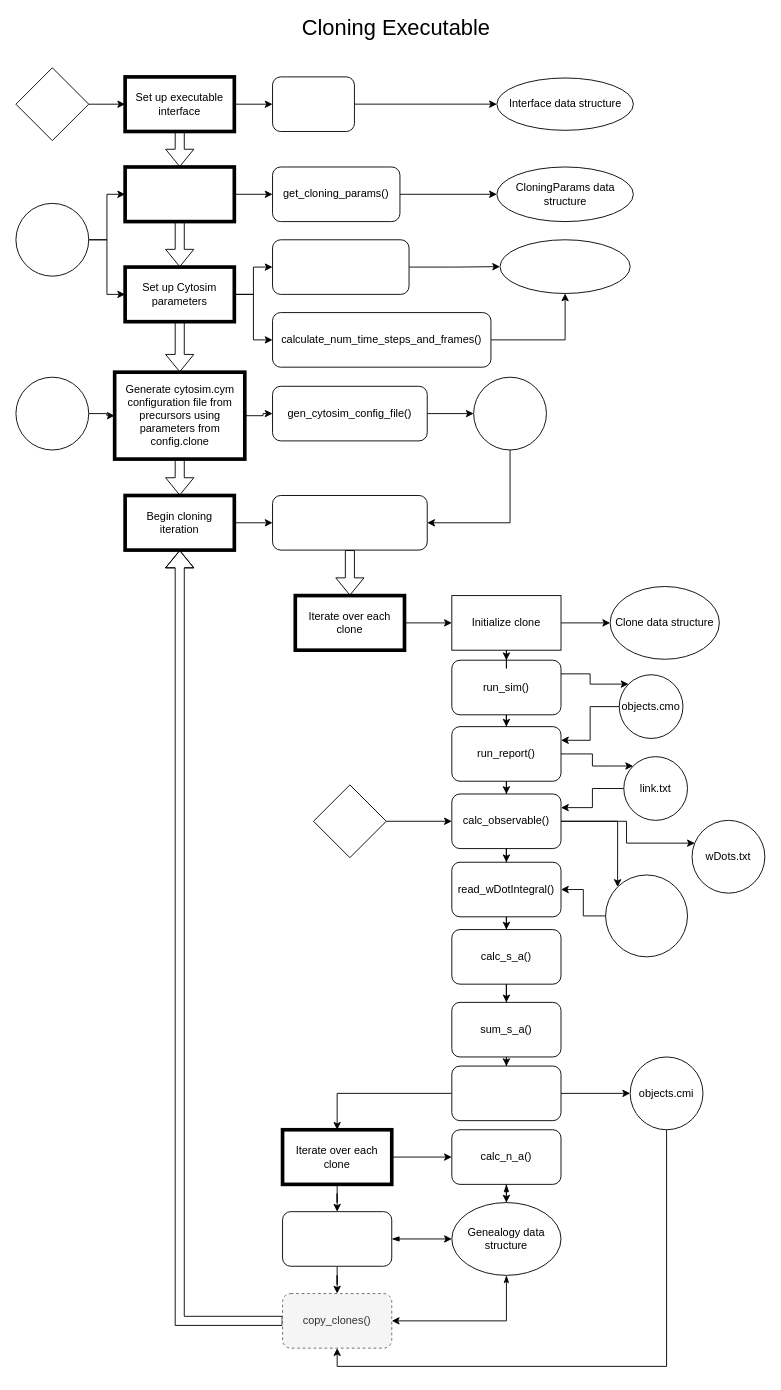
This 781x1390 diagram has some shape labels left out. Here are the shapes that lost their labels. From the top down, the box of each, then its label:
(15, 67, 89, 141): cmake
(272, 76, 354, 131): set_interface()
(123, 165, 236, 223): Set up cloning algorithm parameters
(15, 202, 89, 276): config.clone
(272, 239, 409, 294): get_cytosim_params()
(499, 239, 630, 293): CyosimParams data structure
(15, 376, 89, 450): cym.d
(473, 376, 546, 450): config.cym
(272, 495, 427, 550): create_clones()
(313, 784, 386, 858): calculate
(605, 874, 688, 957): wDotIntegral.txt
(451, 1065, 561, 1121): run_frametool()
(282, 1211, 392, 1266): adjust_population()
